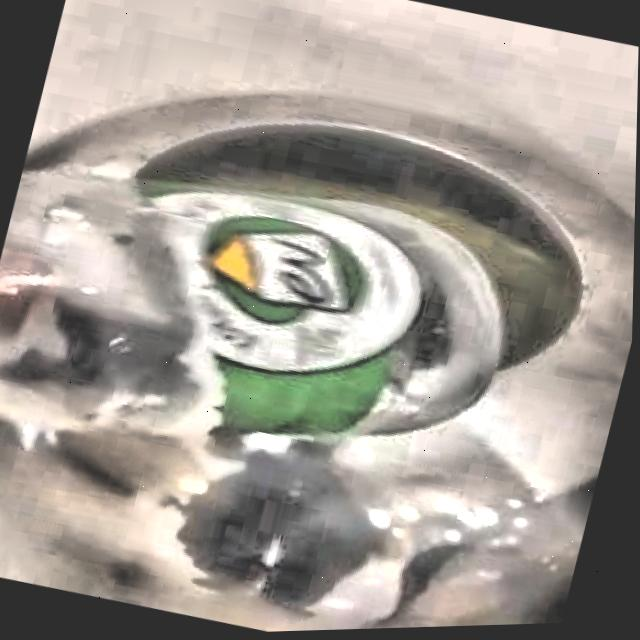glass: (0, 166, 506, 442)
